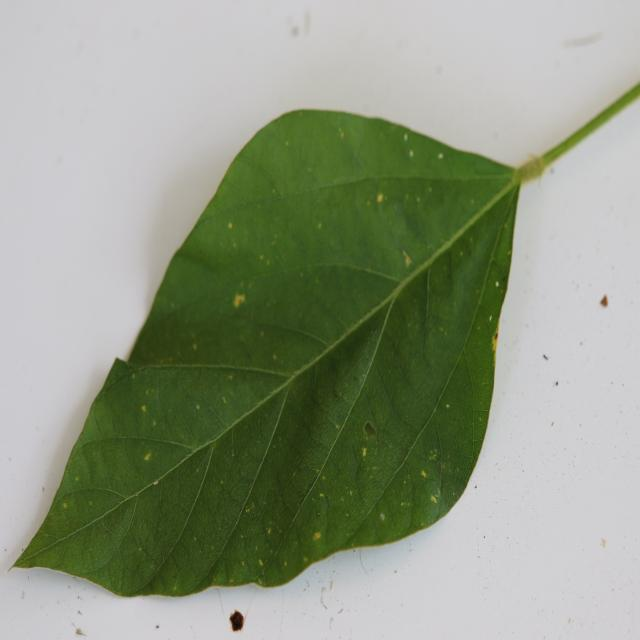Soybean: (15, 109, 560, 601)
downey_mildew: (325, 174, 504, 288), (19, 481, 144, 575), (351, 124, 514, 193), (345, 274, 414, 426), (249, 114, 377, 195), (194, 181, 361, 229), (360, 420, 424, 540), (415, 236, 462, 368), (294, 258, 410, 309), (383, 181, 446, 269), (133, 360, 309, 391), (225, 324, 326, 378), (81, 368, 147, 446), (316, 168, 488, 196), (323, 416, 365, 515), (353, 402, 402, 481), (415, 407, 443, 521), (455, 336, 477, 471), (112, 476, 145, 566), (87, 436, 199, 462), (354, 388, 385, 479), (116, 464, 174, 509), (327, 121, 370, 179), (589, 440, 636, 492), (80, 438, 122, 494), (166, 250, 224, 287), (476, 283, 502, 359), (333, 263, 412, 286), (72, 484, 133, 510), (429, 406, 443, 481), (312, 485, 328, 543), (353, 429, 367, 487), (240, 588, 259, 629), (66, 609, 87, 636), (424, 262, 431, 332), (237, 532, 249, 566), (278, 587, 286, 638), (156, 370, 162, 426), (359, 549, 369, 575), (330, 385, 344, 403), (216, 588, 224, 617), (230, 424, 235, 461), (479, 379, 493, 389)
